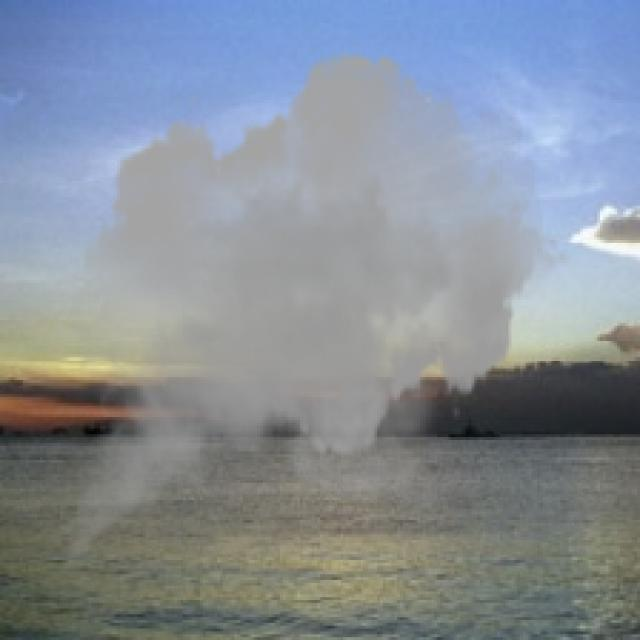smoke: (51, 37, 572, 600)
